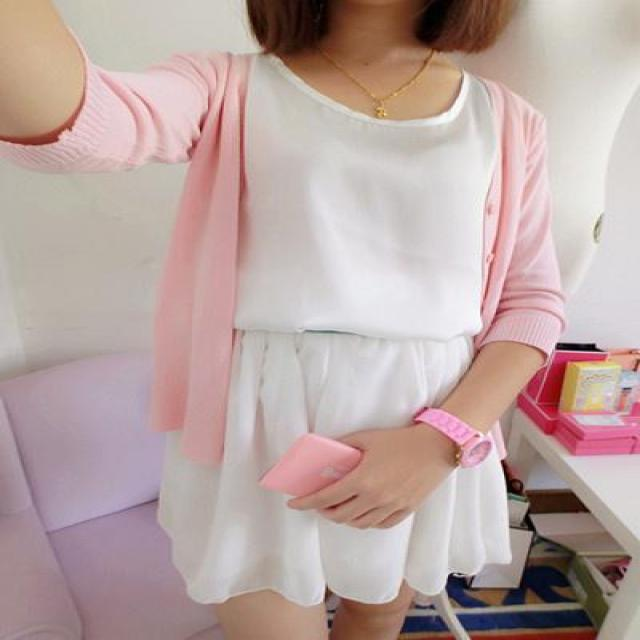long-sleeve-outwear: (107, 31, 640, 594)
